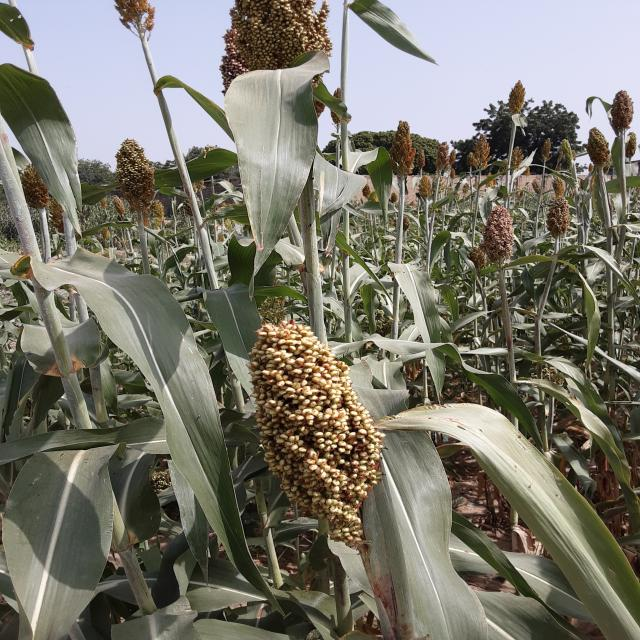UnripeSorghum: (212, 324, 418, 550), (209, 0, 379, 145)
